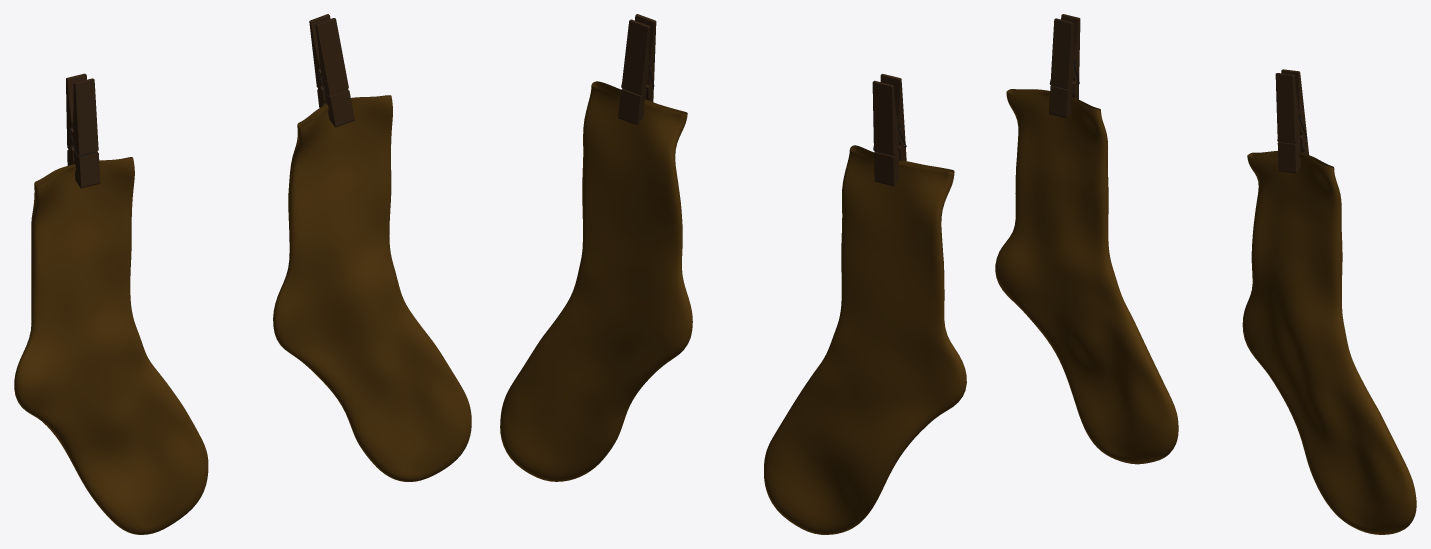
The picture shows the model from 3 angles, left to right: view 1: azimuth 30°, elevation 25°; view 2: azimuth 150°, elevation 25°; view 3: azimuth 330°, elevation 25°; orthographic projection. The views are drawn at different scales.
Parts seen in each view (by area): view 1: socks_r, socks_l, d, d_2, u_2, u; view 2: socks_l, socks_r, u, u_2, d_2, d; view 3: socks_l, socks_r, d, d_2, u, u_2.
Part boxes in pixels (<box>): socks_r: <box>273,95,471,481</box>; socks_l: <box>14,157,208,534</box>; d: <box>315,18,354,127</box>; d_2: <box>72,78,100,188</box>; u_2: <box>66,73,86,165</box>; u: <box>309,14,330,107</box>; socks_l: <box>764,145,966,534</box>; socks_r: <box>500,81,692,481</box>; u: <box>618,19,649,125</box>; u_2: <box>872,80,899,186</box>; d_2: <box>880,74,906,160</box>; d: <box>635,14,656,105</box>; socks_l: <box>995,89,1178,464</box>; socks_r: <box>1242,151,1416,534</box>; d: <box>1275,73,1300,173</box>; d_2: <box>1049,18,1074,118</box>; u: <box>1281,69,1308,154</box>; u_2: <box>1061,14,1080,99</box>.
Bounding box in the file's own units: 37.87 × 38.15 × 2.63.
